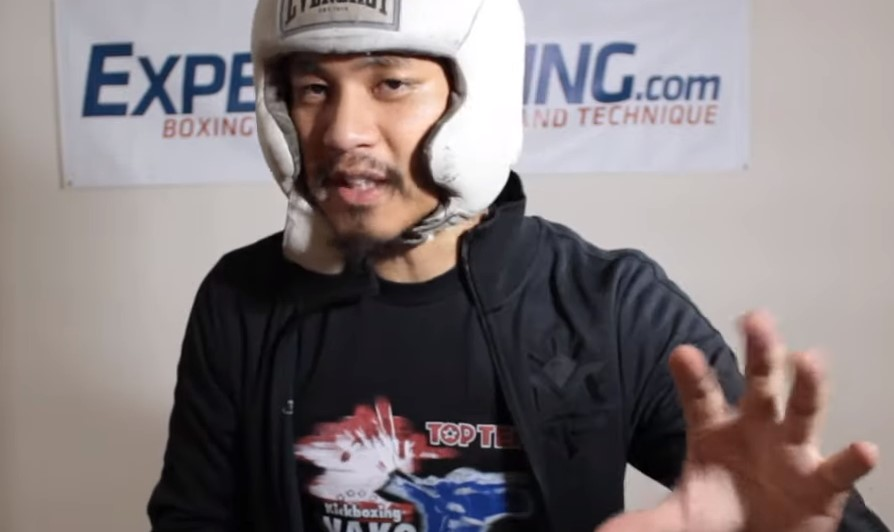face_no_mask: (258, 25, 471, 250)
